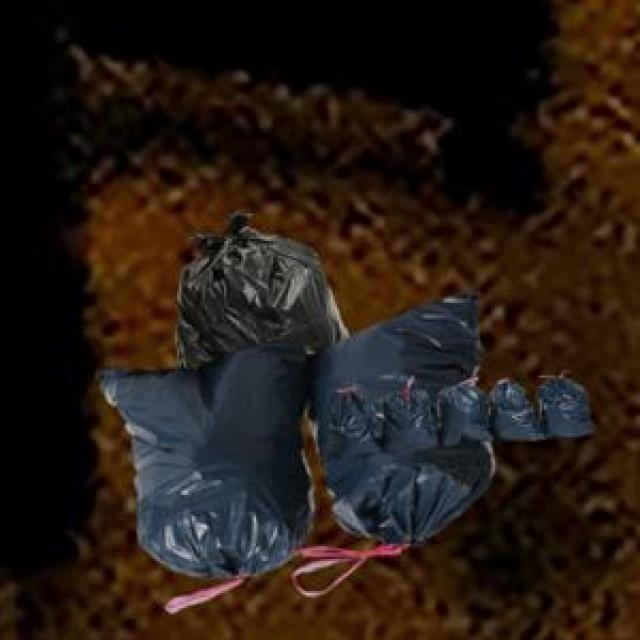miscellaneous trash: (94, 288, 491, 608), (171, 207, 346, 365), (316, 371, 591, 457)
